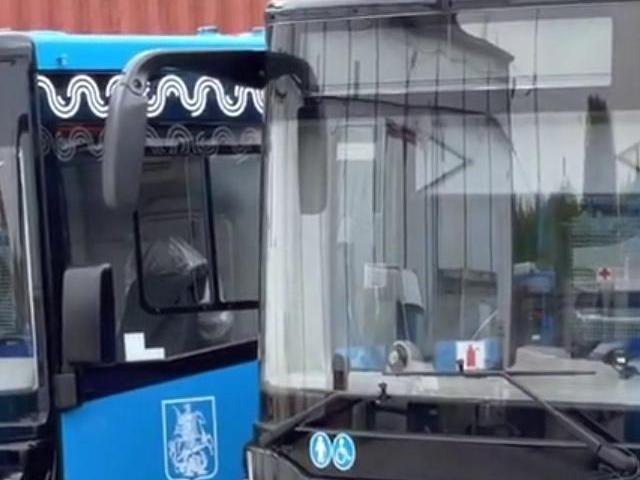bus: (235, 0, 640, 480), (0, 21, 261, 480)
